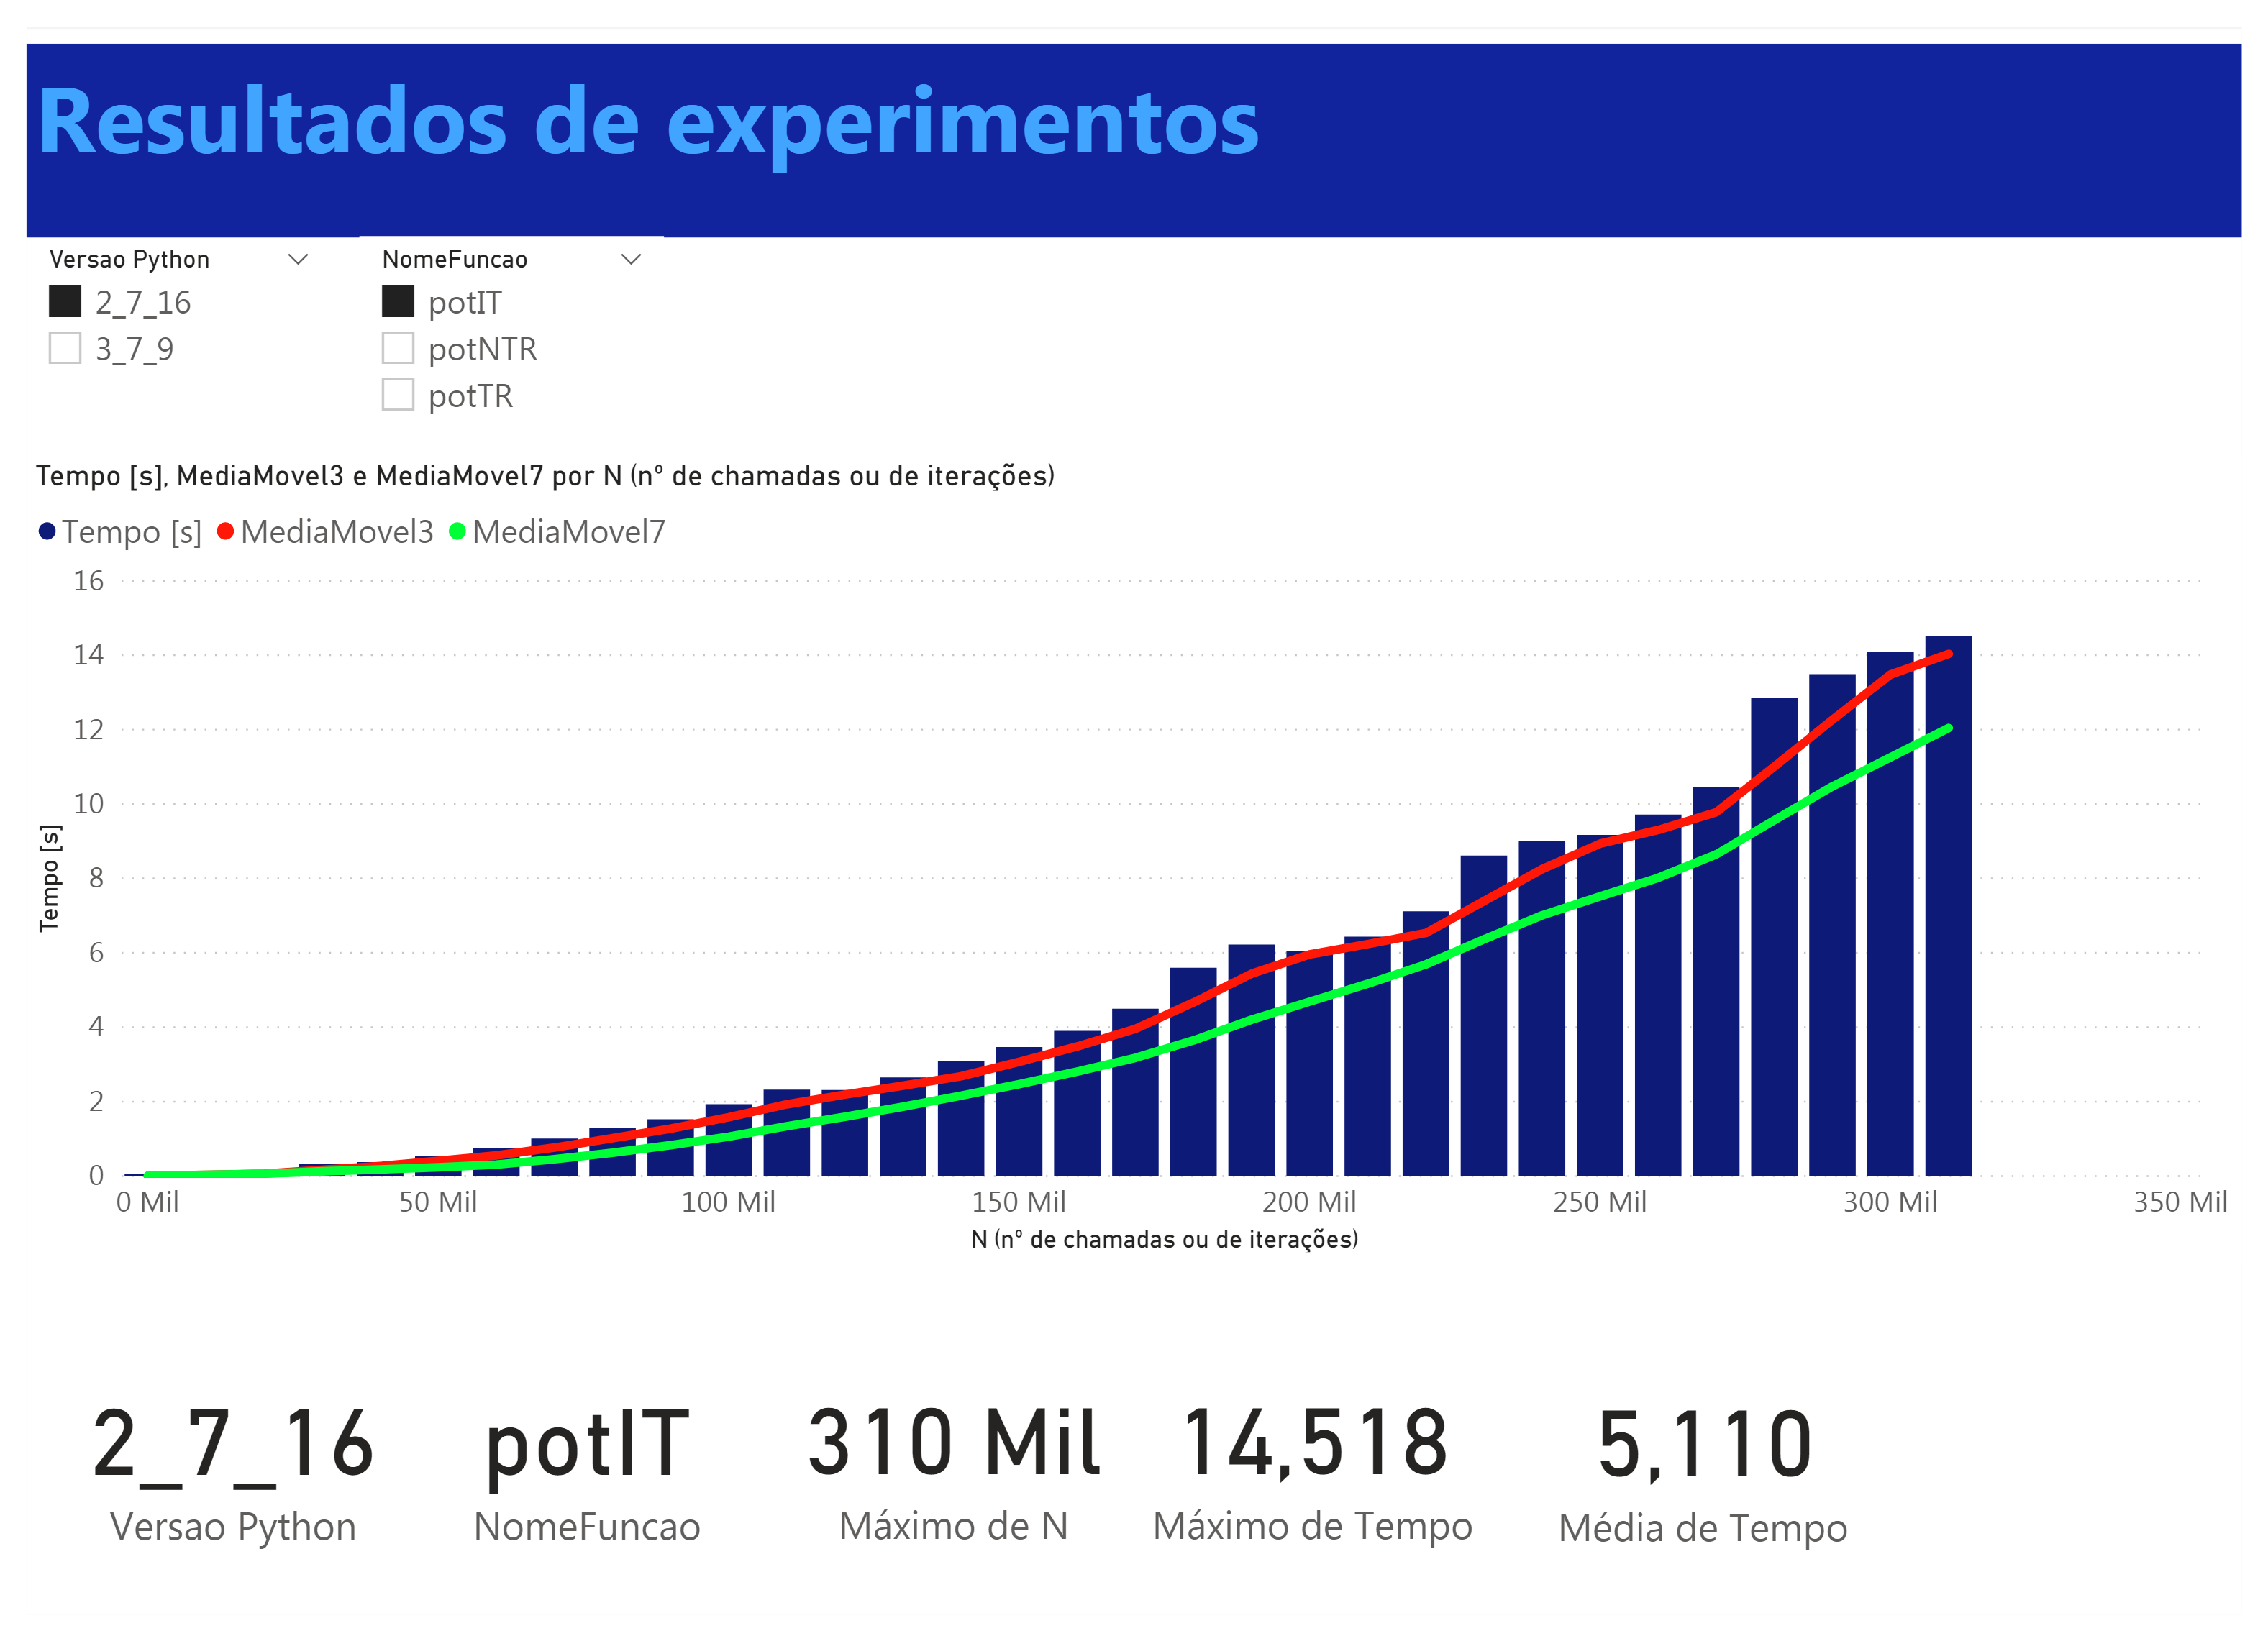

The dashboard page shown, as its layout file describes it:
{"tool":"powerbi","page":{"name":"Potenciação","canvas":[1280,900],"ordinal":4},"visuals":[{"type":"lineClusteredColumnComboChart","fields":{"Category":["Tabela1.N"],"Y":["Sum(Tabela1.Tempo)"],"Y2":["Tabela1.MediaMovel3","Tabela1.MediaMovel7"]},"box":[0,240,1280,464],"z":0},{"type":"card","fields":{"Values":["Max(Tabela1.Tempo)"]},"box":[640,736,208,160],"z":1000},{"type":"card","fields":{"Values":["Min(Tabela1.NomeFuncao)"]},"box":[216,744,216,144],"z":2000},{"type":"card","fields":{"Values":["Max(Tabela1.N)"]},"box":[432,736,208,160],"z":3000},{"type":"card","fields":{"Values":["Avg(Tabela1.Tempo)"]},"box":[848,752,240,128],"z":4000},{"type":"slicer","fields":{"Values":["Tabela1.Versao Python"]},"box":[0,112,176,112],"z":5000},{"type":"card","fields":{"Values":["Min(Tabela1.Versao Python)"]},"box":[24,744,192,144],"z":6000},{"type":"textbox","box":[0,0,1280,112],"z":7000},{"type":"slicer","fields":{"Values":["Tabela1.NomeFuncao"]},"box":[192,112,176,112],"z":8000}]}

Visuals, with their boxes in screenshot pixels (x1, y1, x2, y2), scaled from the page's 1280x900 canvas onto the 2268x1641 screenshot:
lineClusteredColumnComboChart - Tabela1.N x Sum(Tabela1.Tempo): BBox(0, 438, 2267, 1284)
card - Max(Tabela1.Tempo): BBox(1134, 1342, 1503, 1634)
card - Min(Tabela1.NomeFuncao): BBox(383, 1356, 765, 1619)
card - Max(Tabela1.N): BBox(765, 1342, 1134, 1634)
card - Avg(Tabela1.Tempo): BBox(1503, 1371, 1928, 1604)
slicer - Tabela1.Versao Python: BBox(0, 204, 312, 408)
card - Min(Tabela1.Versao Python): BBox(42, 1356, 383, 1619)
textbox: BBox(0, 0, 2267, 204)
slicer - Tabela1.NomeFuncao: BBox(340, 204, 652, 408)
